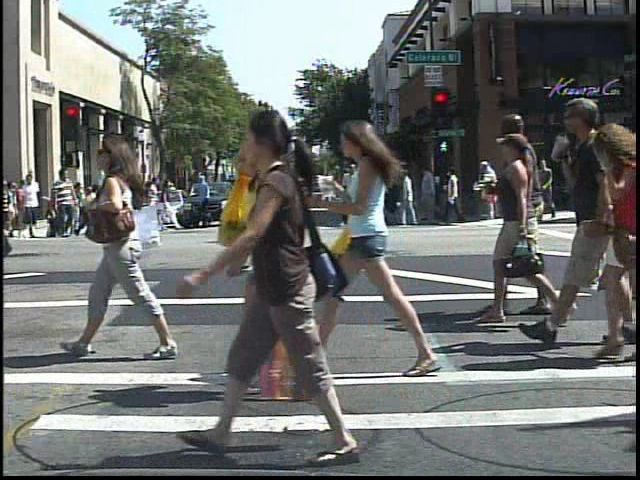person: (210, 105, 376, 470), (214, 116, 346, 398), (324, 109, 445, 384), (78, 124, 181, 366), (541, 80, 613, 352), (96, 160, 130, 241), (50, 164, 81, 242), (476, 157, 501, 224), (19, 170, 42, 240), (99, 178, 119, 221), (163, 175, 182, 212)
